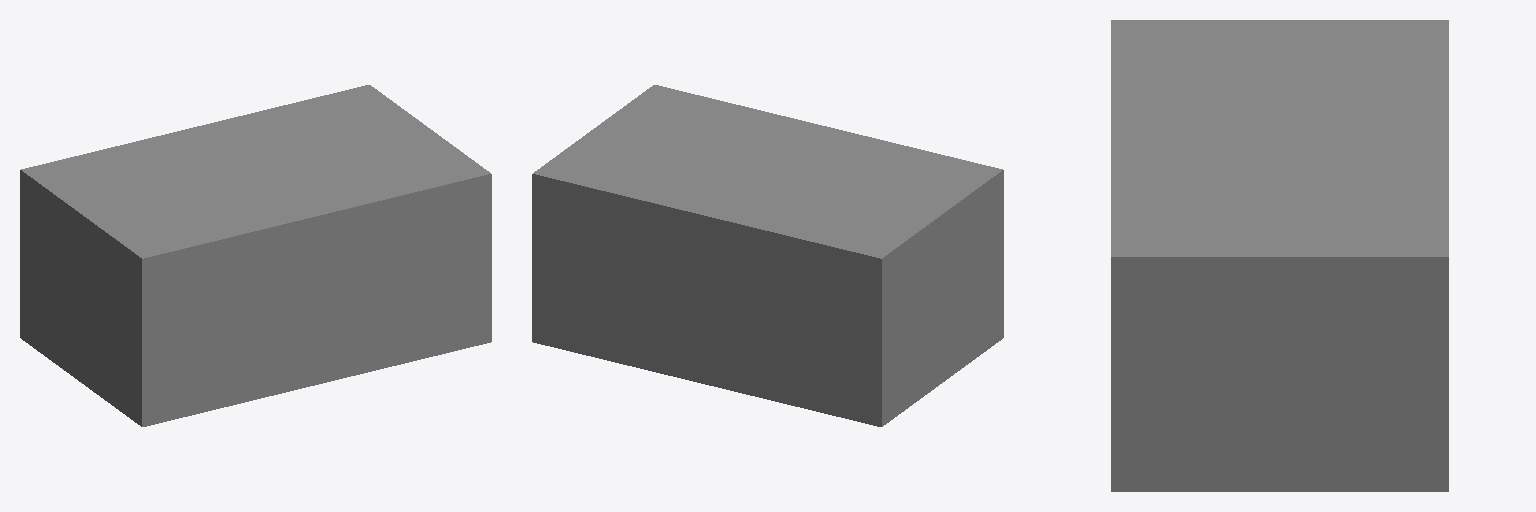
The robot description file, URDF, robot "chassis":
<?xml version="1.0"?>
<robot name="chassis">

  <link name="base_link">

    <visual>
      <geometry>
        <mesh filename="package://robot_description/meshes/chassis.stl"/>
      </geometry>
      <material name="gray">
        <color rgba="0.6 0.6 0.6 1.0"/>
      </material>
    </visual>

    <collision>
      <geometry>
        <mesh filename="package://robot_description/meshes/chassis.stl"/>
      </geometry>
    </collision>

    <inertial>
      <origin xyz="-0.01905 -0.0015875 0.066675" rpy="0 0 0"/>
      <mass value="2.0"/>
      <inertia ixx="0.01" ixy="0" ixz="0"
               iyy="0.01" iyz="0"
               izz="0.01"/>
    </inertial>

  </link>

</robot>

--- Facts derived from the render (not from the file) ---
Views: 3 orthographic renders of the robot side by side, from view 1: azimuth 30°, elevation 25°; view 2: azimuth 150°, elevation 25°; view 3: azimuth 270°, elevation 25°.
Model chassis with 1 links and 0 joints (none), rooted at base_link, posed all joints at 0.
Visible links, largest first — view 1: base_link; view 2: base_link; view 3: base_link.
Link boxes in pixels (x1,y1,x2,y2): base_link: (20,85,491,426); base_link: (532,85,1003,426); base_link: (1111,20,1448,491).
Bounding box of the posed robot: 0.2889 × 0.1746 × 0.1333 m (x, y, z).
Meshes: 1 distinct files referenced, 1 mesh visuals loaded (1 ASCII STL).
